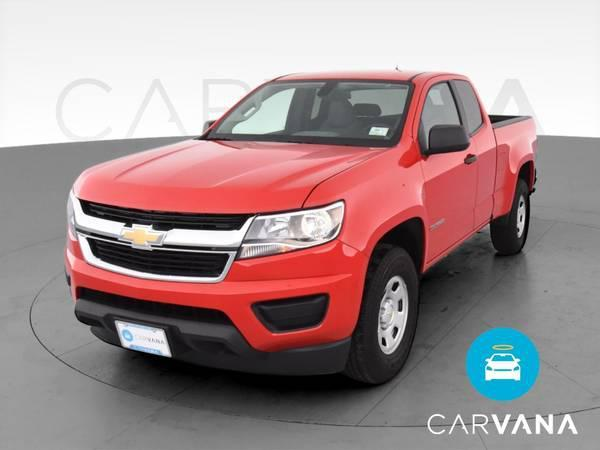Front_Bumper: (65, 237, 367, 372)
Front_Fender: (305, 141, 434, 273)
Front_Left_Door: (418, 135, 476, 262)
Front_Left_Window: (417, 84, 469, 158)
Front_Windshield: (206, 80, 415, 151)
Grille: (75, 198, 260, 283)
Hood: (75, 136, 387, 213)
Left_Headlight: (240, 200, 348, 260)
Rear_Fender: (494, 113, 539, 216)
Rear_Left_Door: (471, 125, 499, 231)
Rear_Left_Window: (452, 83, 483, 142)
Roof: (260, 70, 457, 146)
Wheel: (353, 243, 423, 386), (488, 184, 531, 260)
